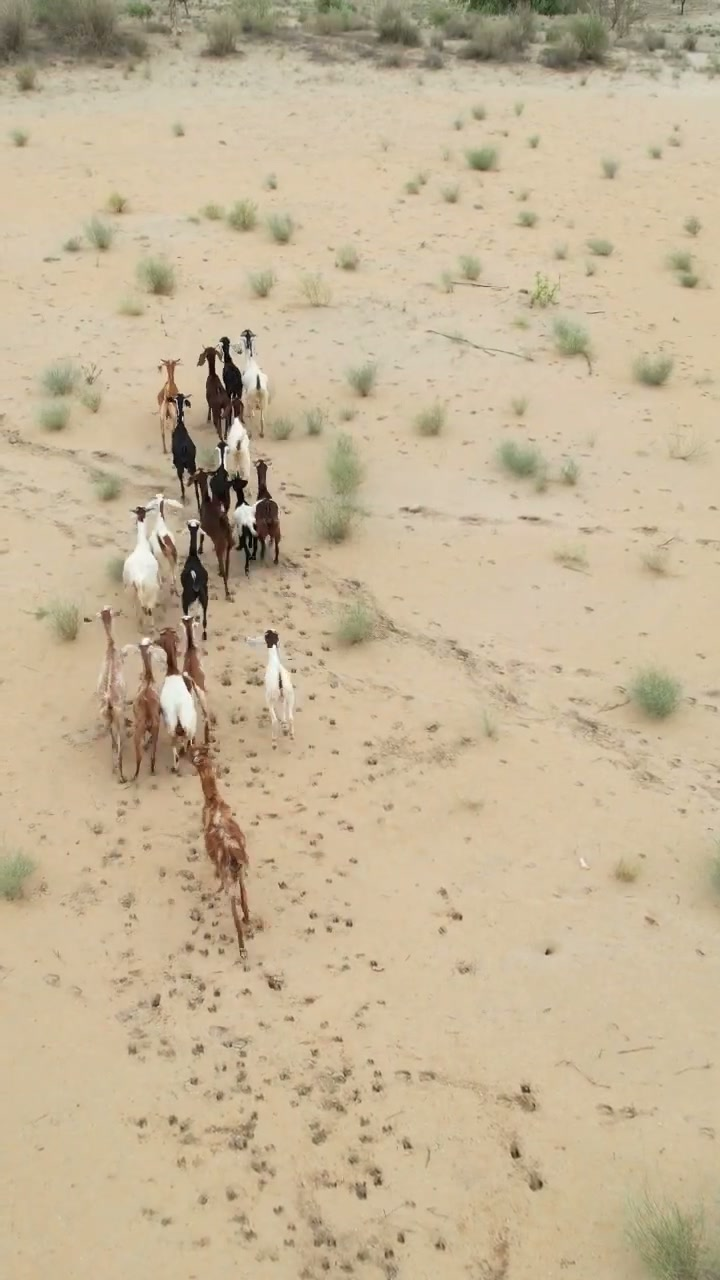animal_foot_print: (82, 577, 476, 1279)
